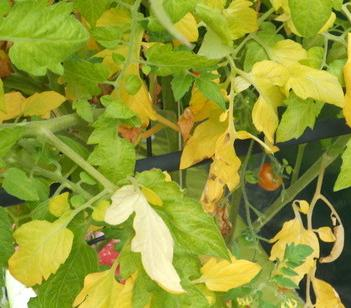Tomato leaf yellow virus: (0, 0, 94, 83), (177, 109, 248, 216), (3, 215, 79, 294), (275, 0, 345, 49), (196, 257, 263, 298)
